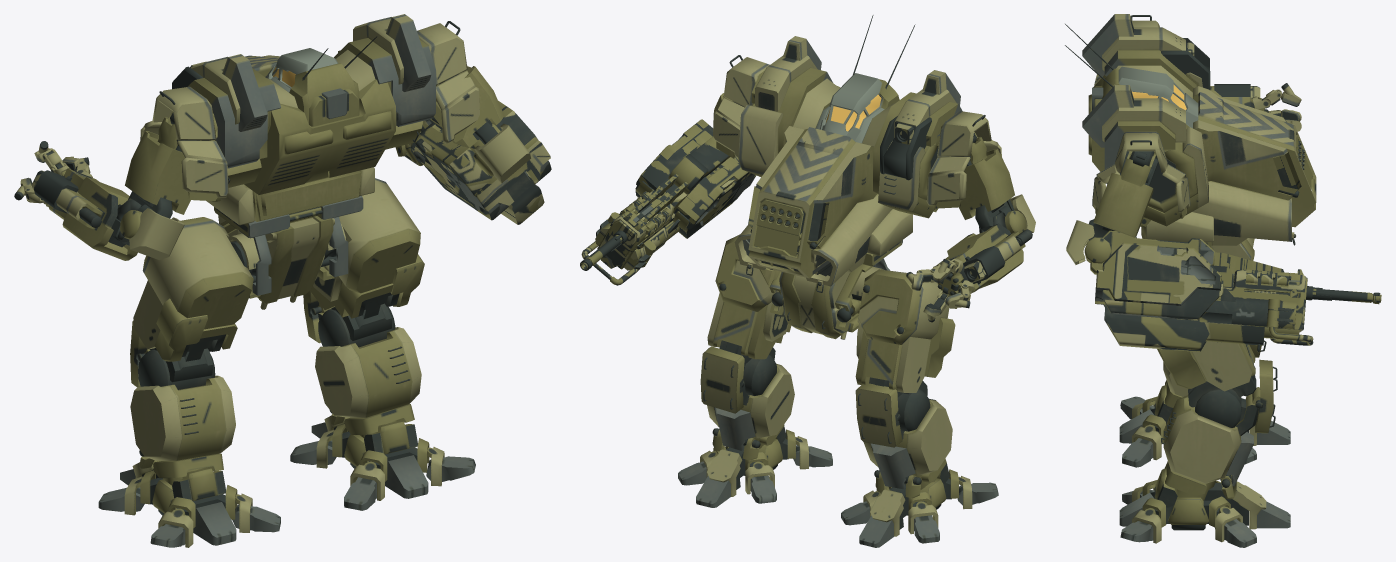
File: Dragon.glb
3 renders of one model, left to right at view 1: azimuth 30°, elevation 25°; view 2: azimuth 150°, elevation 25°; view 3: azimuth 270°, elevation 25°, orthographic. The views are drawn at different scales.
Visible parts, largest first — view 1: CenterTorso_CoreAndPelvis, LeftLeg_Thigh, LeftArm_ShoulderAndUpperarm, LeftLeg_Shin, RightLeg_Shin, RightLeg_Thigh, RightLeg_Foot, LeftLeg_Foot, RightArm_ShoulderAndUpperarm, RightArm_ForearmAndFist, LeftTorso_TorsoShell, RightTorso_TorsoShell (+3 smaller); view 2: CenterTorso_CoreAndPelvis, RightArm_ForearmAndFist, LeftLeg_Thigh, LeftLeg_Shin, LeftArm_ShoulderAndUpperarm, RightLeg_Shin, RightTorso_TorsoShell, RightLeg_Thigh, LeftLeg_Foot, LeftTorso_TorsoShell, RightLeg_Foot, LeftArm_ForearmAndFist (+7 smaller); view 3: RightArm_ForearmAndFist, CenterTorso_CoreAndPelvis, RightLeg_Shin, RightTorso_TorsoShell, RightLeg_Foot, RightArm_ShoulderAndUpperarm, LeftTorso_TorsoShell, RightLeg_Thigh, LeftLeg_Foot, Head_CockpitFrame, LeftArm_ForearmAndFist, LeftTorso_Weapon0 (+3 smaller).
Part boxes in pixels (bbox=[...]): CenterTorso_CoreAndPelvis: bbox=[206, 49, 395, 309]; LeftLeg_Thigh: bbox=[133, 217, 253, 382]; LeftArm_ShoulderAndUpperarm: bbox=[116, 86, 228, 259]; LeftLeg_Shin: bbox=[130, 320, 235, 485]; RightLeg_Shin: bbox=[303, 291, 421, 437]; RightLeg_Thigh: bbox=[310, 178, 424, 340]; RightLeg_Foot: bbox=[290, 415, 475, 510]; LeftLeg_Foot: bbox=[98, 460, 280, 547]; RightArm_ShoulderAndUpperarm: bbox=[417, 21, 530, 183]; RightArm_ForearmAndFist: bbox=[404, 100, 551, 224]; LeftTorso_TorsoShell: bbox=[187, 54, 280, 201]; RightTorso_TorsoShell: bbox=[334, 14, 435, 156]; CenterTorso_CoreAndPelvis: bbox=[734, 78, 912, 339]; RightArm_ForearmAndFist: bbox=[581, 119, 756, 285]; LeftLeg_Thigh: bbox=[855, 269, 955, 397]; LeftLeg_Shin: bbox=[855, 383, 952, 498]; LeftArm_ShoulderAndUpperarm: bbox=[926, 111, 1035, 233]; RightLeg_Shin: bbox=[700, 346, 794, 460]; RightTorso_TorsoShell: bbox=[738, 36, 832, 176]; RightLeg_Thigh: bbox=[707, 234, 791, 369]; LeftLeg_Foot: bbox=[841, 463, 998, 547]; LeftTorso_TorsoShell: bbox=[873, 70, 962, 218]; RightLeg_Foot: bbox=[678, 426, 832, 507]; LeftArm_ForearmAndFist: bbox=[906, 223, 1032, 322]; RightArm_ForearmAndFist: bbox=[1090, 230, 1313, 352]; CenterTorso_CoreAndPelvis: bbox=[1088, 65, 1316, 285]; RightLeg_Shin: bbox=[1161, 359, 1277, 500]; RightTorso_TorsoShell: bbox=[1082, 85, 1208, 226]; RightLeg_Foot: bbox=[1119, 468, 1290, 547]; RightArm_ShoulderAndUpperarm: bbox=[1066, 131, 1190, 264]; LeftTorso_TorsoShell: bbox=[1082, 14, 1202, 92]; RightLeg_Thigh: bbox=[1157, 341, 1256, 407]; LeftLeg_Foot: bbox=[1119, 385, 1290, 467]; Head_CockpitFrame: bbox=[1118, 66, 1198, 128]; LeftArm_ForearmAndFist: bbox=[1210, 83, 1301, 131]; LeftTorso_Weapon0: bbox=[1161, 38, 1210, 89].
Bounding box in the file's own units: 2.41 × 2.6 × 1.67.
Materials: 4 (2 with a texture image).
